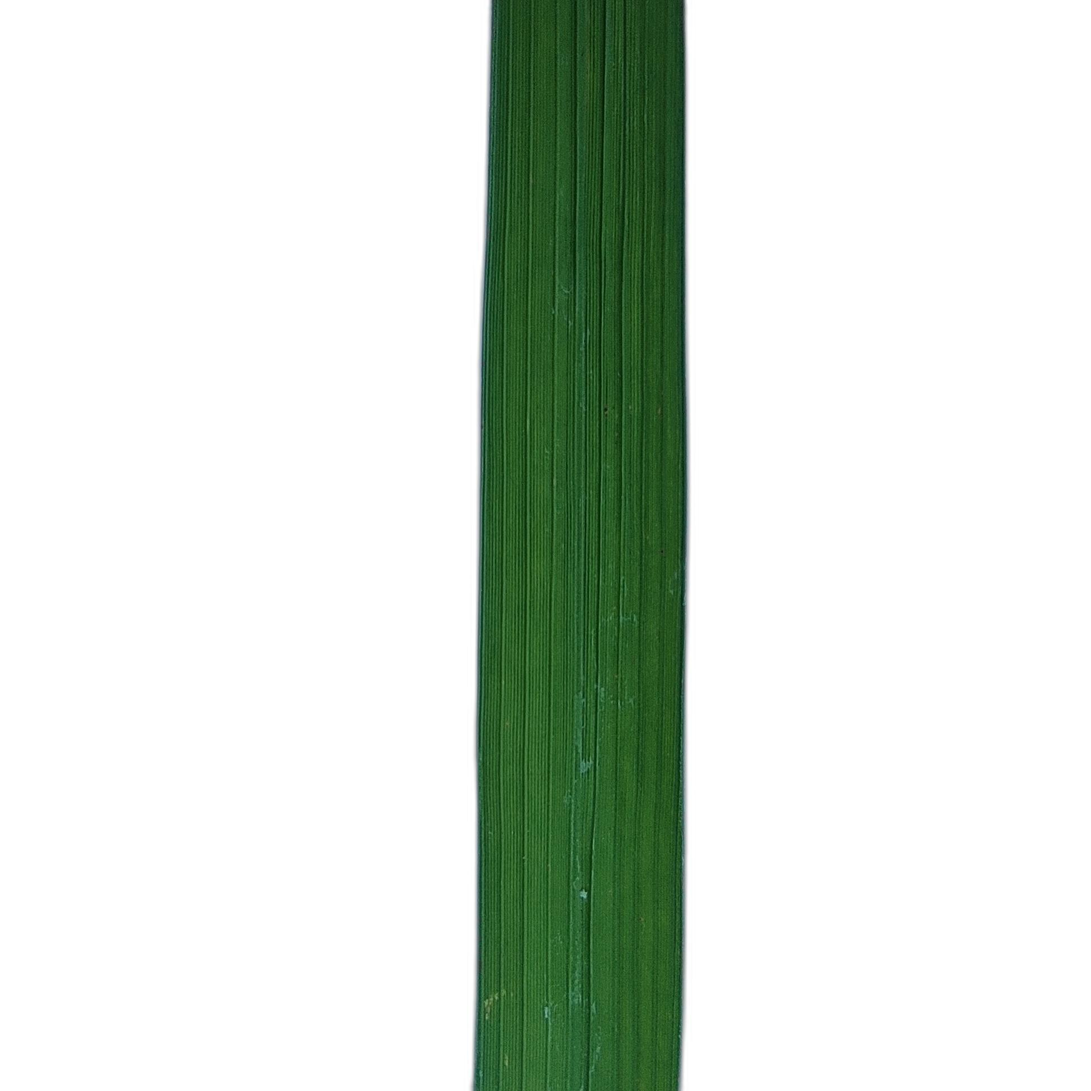Healthy: (475, 1, 685, 1090)
